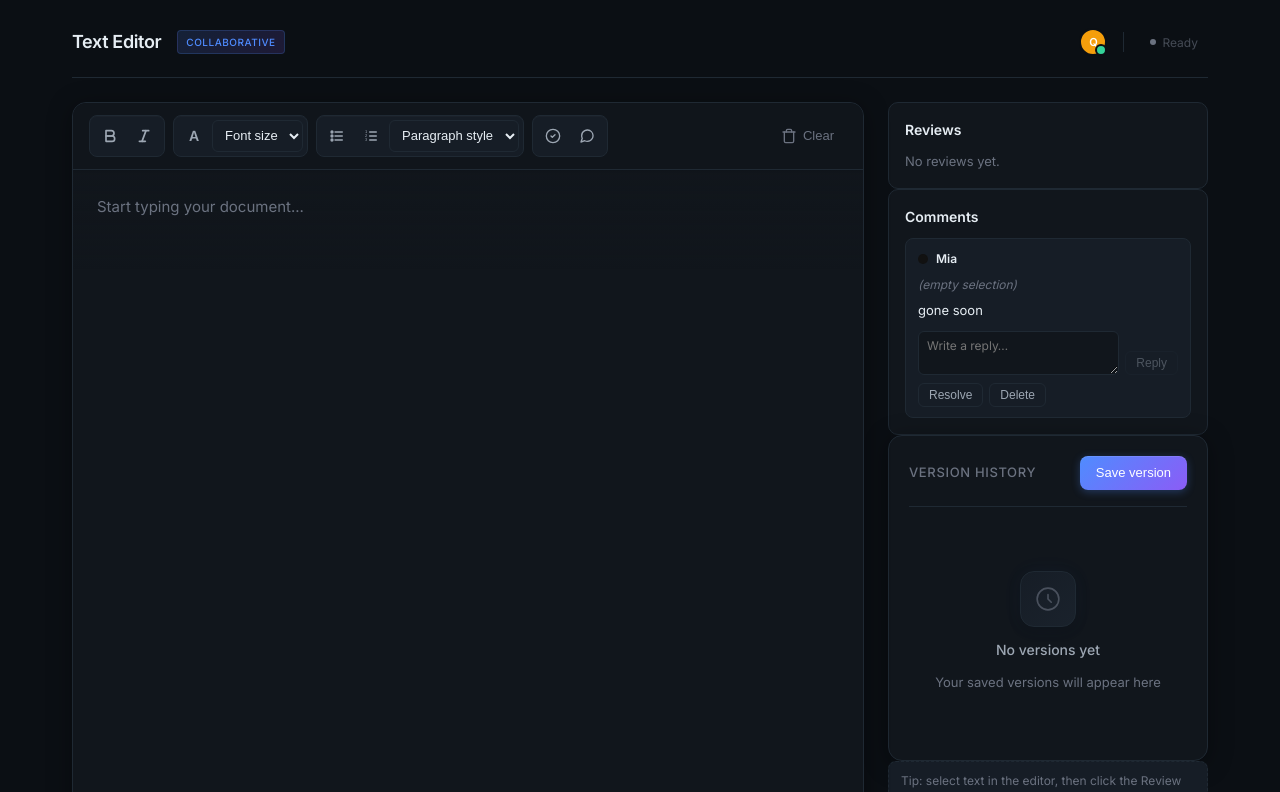
Test: App — Requirement 9: comments end-to-end › Delete with confirmation removes the comment and broadcasts
Click the button "Delete" at (1018, 394), box [989,382,1046,406]
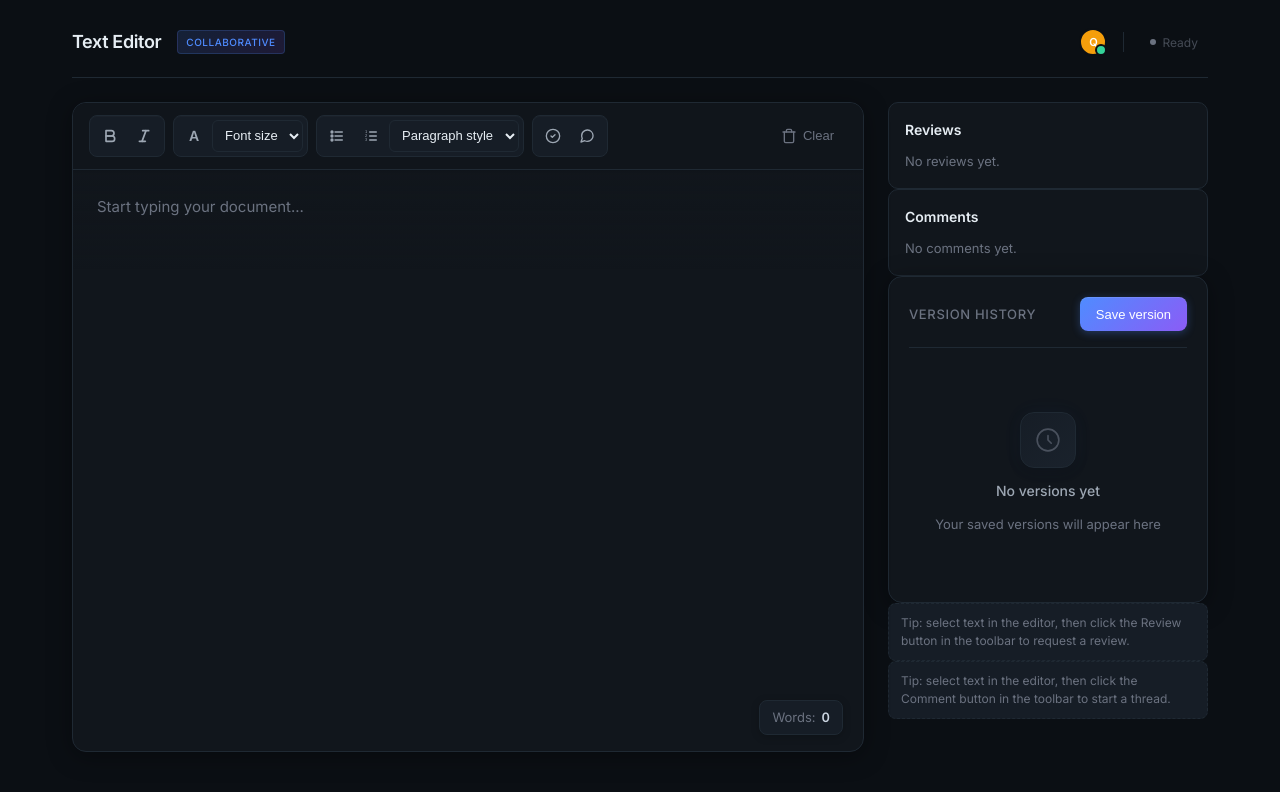
Expected: the list item with test id "comment-item-to-delete" is gone
